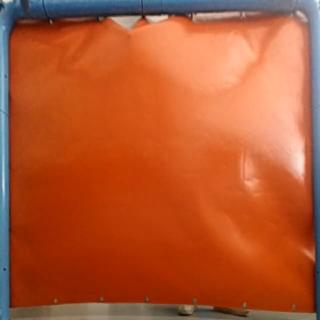Hit-hRxx: (122, 27, 138, 42)
